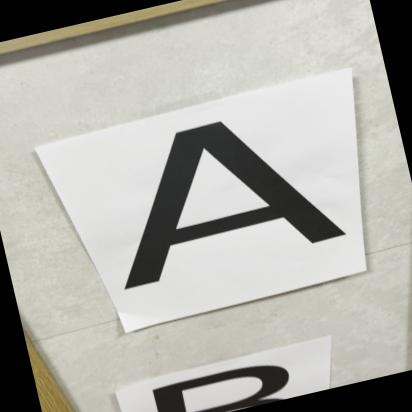seat: (84, 91, 362, 307)
